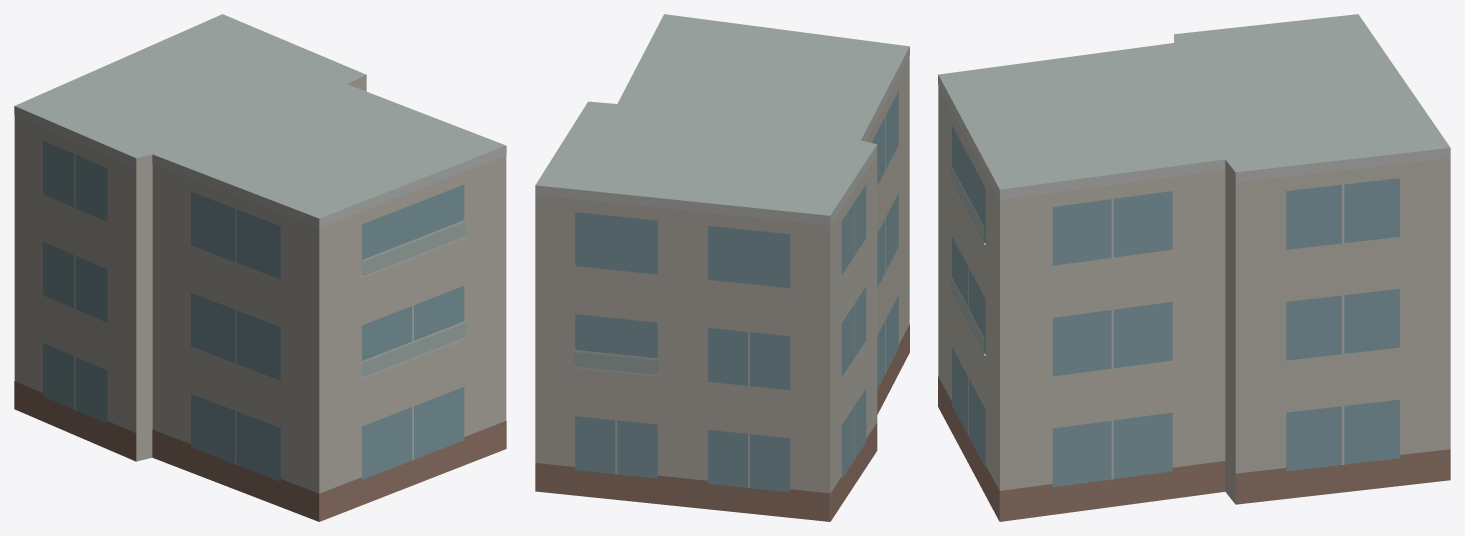
Rendered from survey-upis-32489007.glb.
3 renders of one model, left to right at view 1: azimuth 30°, elevation 25°; view 2: azimuth 150°, elevation 25°; view 3: azimuth 270°, elevation 25°, orthographic. The views are drawn at different scales.
Parts seen in each view (by area): view 1: survey-upis-32489007.tmp; view 2: survey-upis-32489007.tmp; view 3: survey-upis-32489007.tmp.
Boxes of the visible parts, box(x1,y1,x2,y2) form: survey-upis-32489007.tmp: box(14, 14, 506, 521); survey-upis-32489007.tmp: box(535, 14, 909, 521); survey-upis-32489007.tmp: box(938, 14, 1450, 521).
Size of the model in its own units: 8.85 by 7.8 by 10.91.
